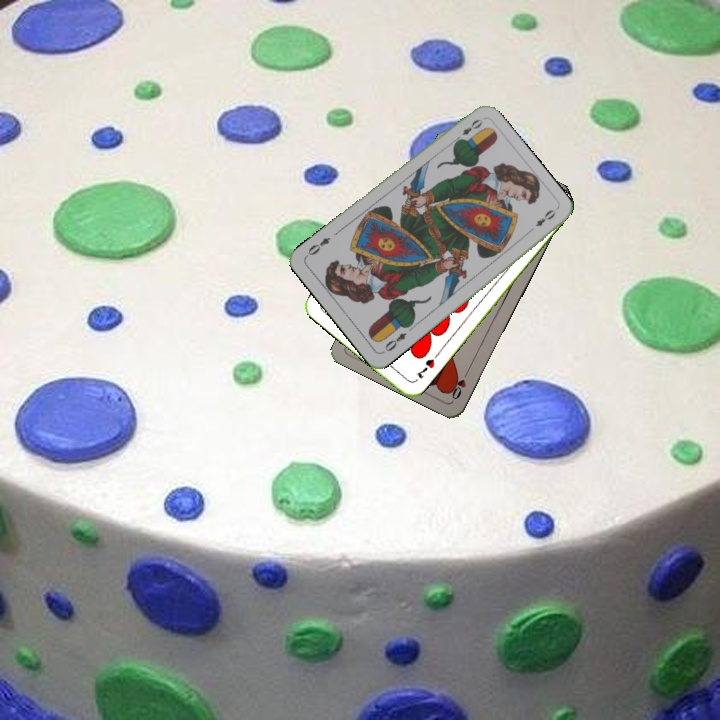EO: (450, 115, 485, 145), (379, 328, 409, 356)
H7: (412, 355, 437, 381)
HO: (448, 365, 473, 402)
